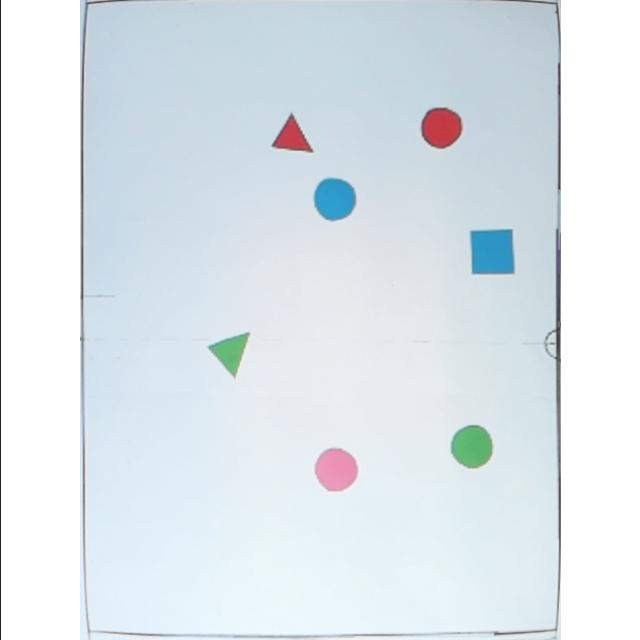blueCircle: (314, 178, 358, 222)
blueSquare: (469, 229, 515, 277)
greenCircle: (451, 425, 495, 469)
greenTriangle: (207, 331, 251, 379)
pinkCircle: (315, 448, 359, 492)
redCircle: (422, 106, 462, 150)
redTriangle: (270, 112, 316, 156)
